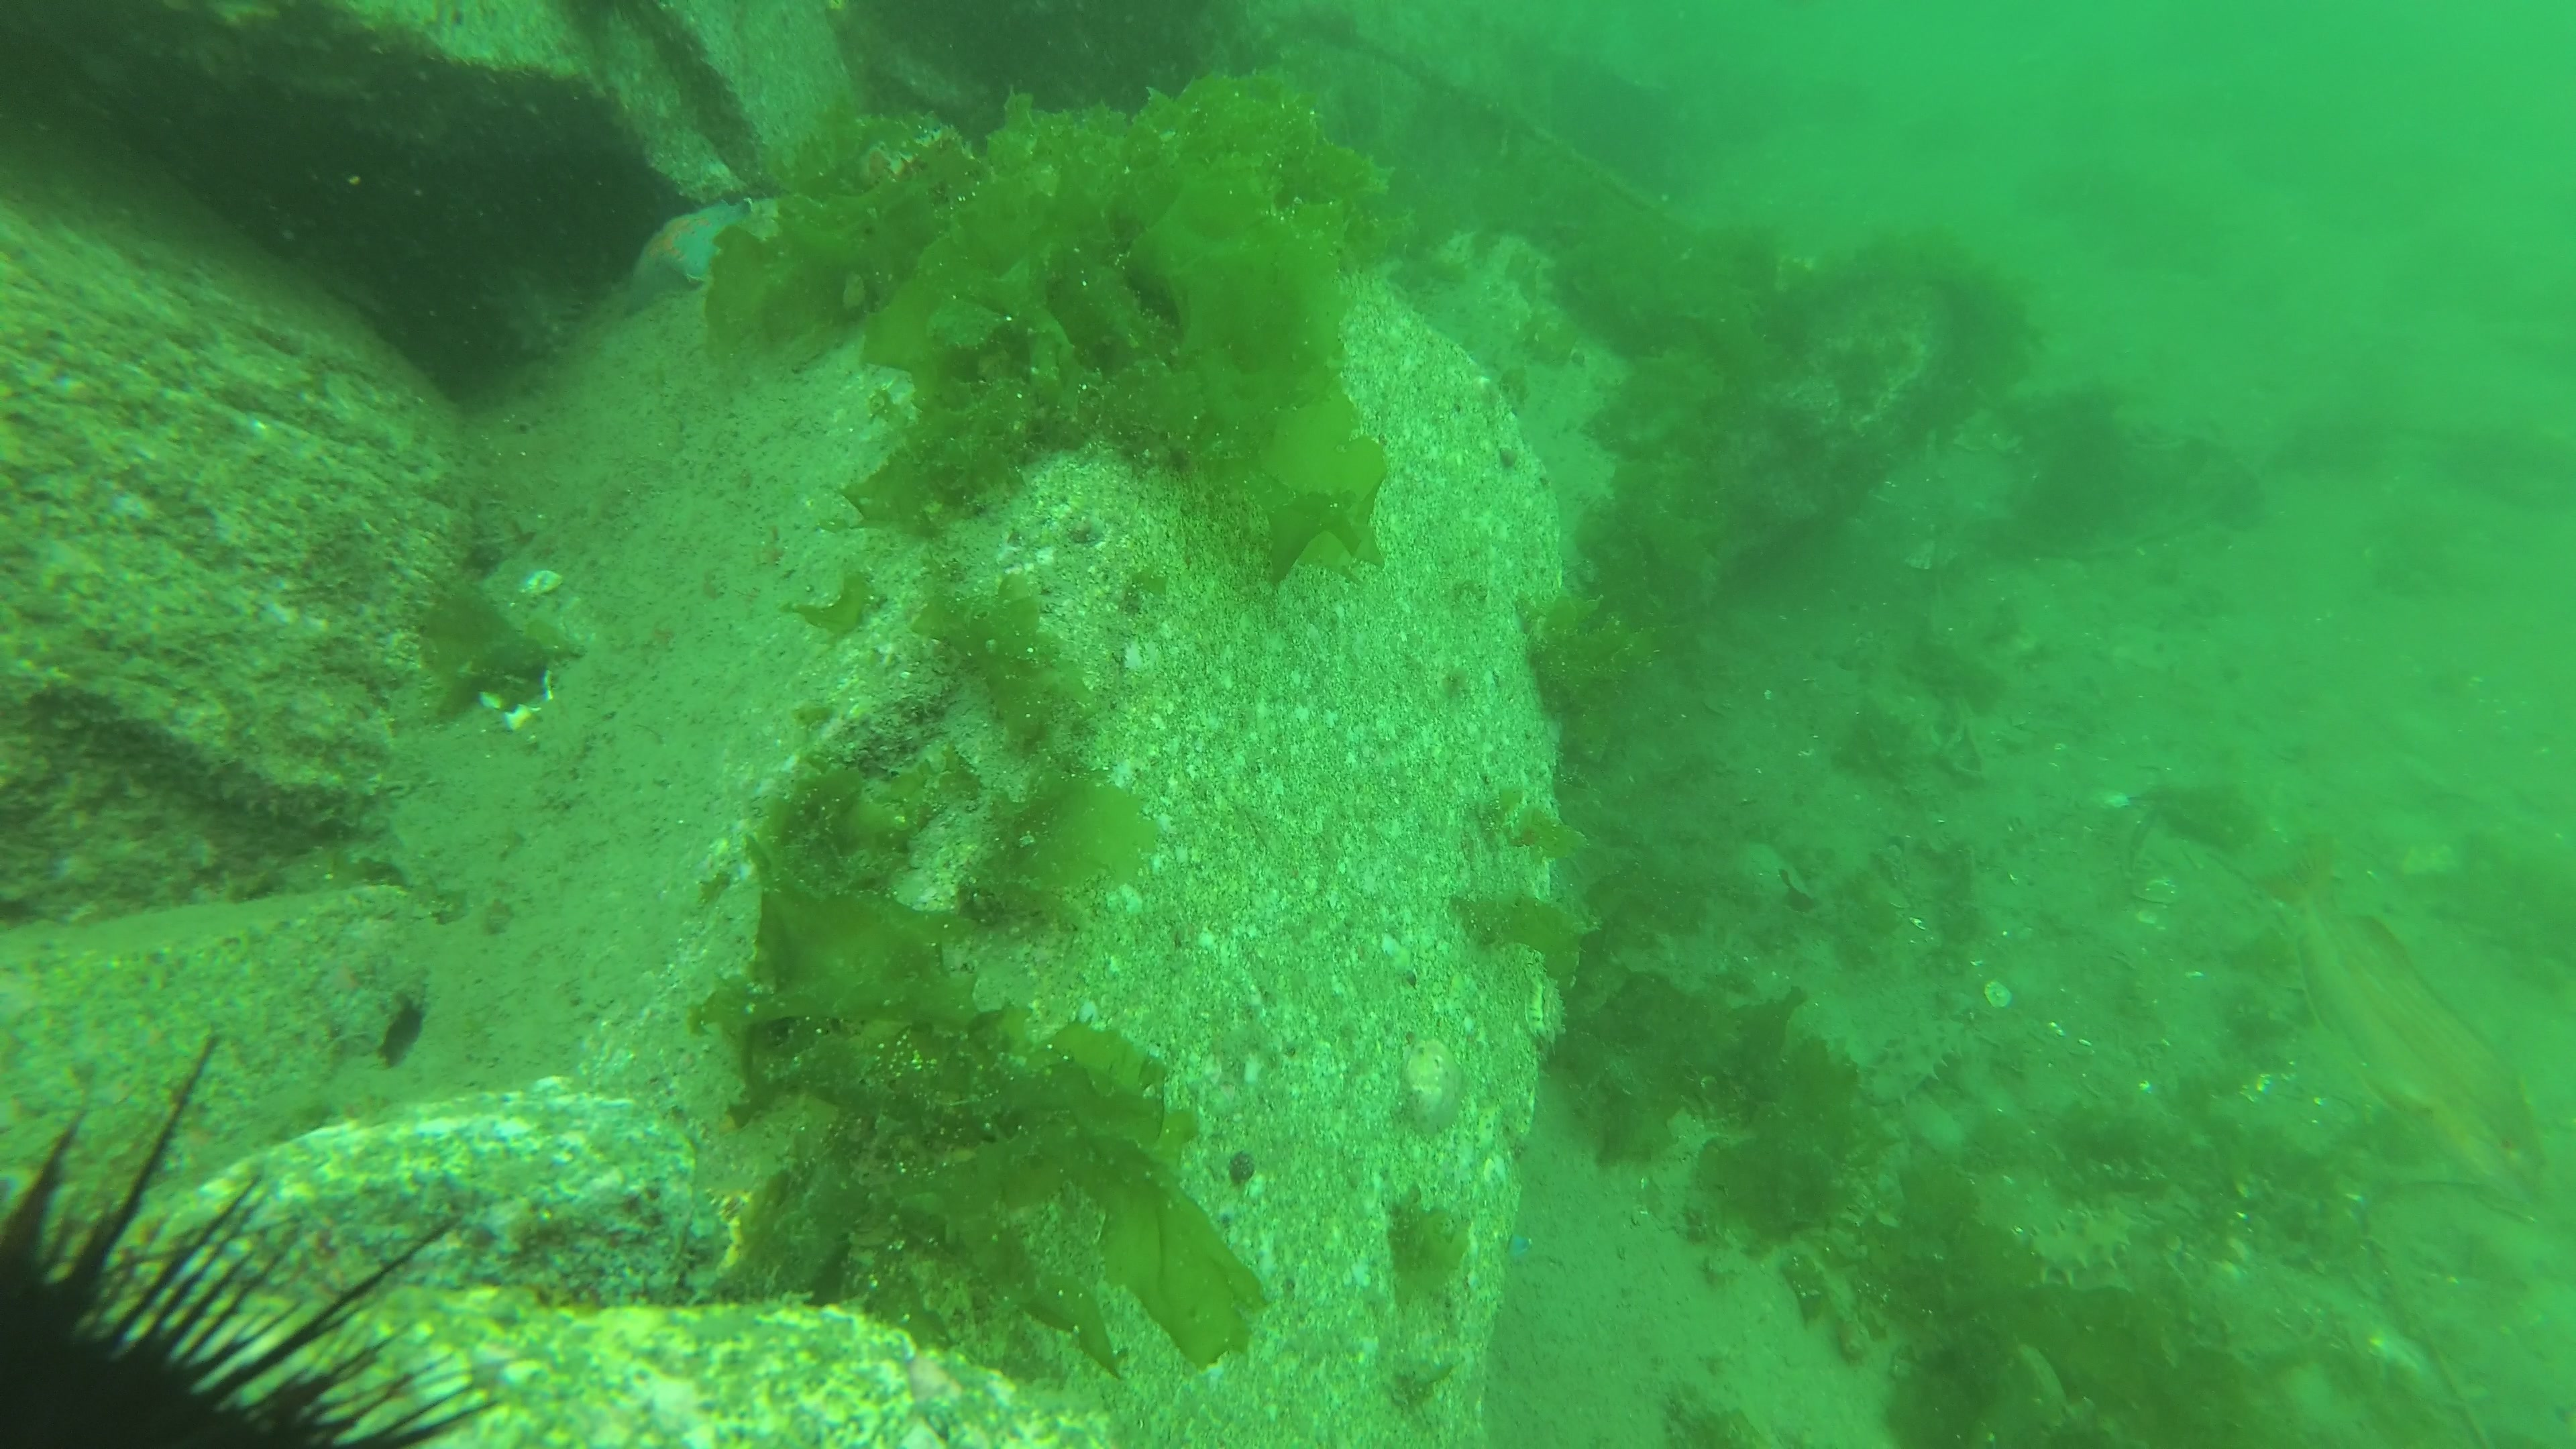echinus: (2, 1039, 506, 1449)
holothurian: (1861, 1001, 1973, 1111), (2019, 1194, 2137, 1295)
starfish: (619, 191, 752, 311)
